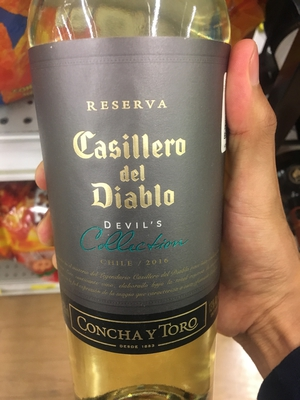casillero del diablo devils collection verde: (25, 3, 241, 388)
